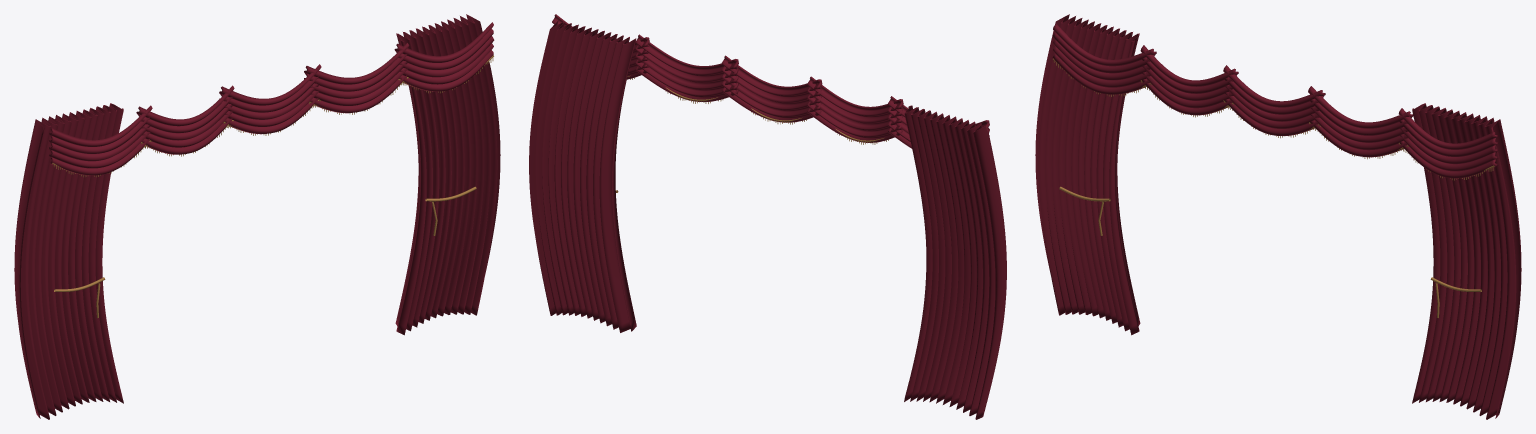
Rendered from velvet-curtain.glb.
The picture shows the model from 3 angles, left to right: view 1: azimuth 30°, elevation 25°; view 2: azimuth 150°, elevation 25°; view 3: azimuth 330°, elevation 25°; orthographic projection.
Visible parts, largest first — view 1: CurtainLeft, CurtainRight, Valance0, Valance3, Valance4, Valance2, Valance1, GoldTrim; view 2: CurtainRight, CurtainLeft, Valance3, Valance2, Valance1, Valance0, Valance4, GoldTrim; view 3: CurtainRight, CurtainLeft, Valance0, Valance4, Valance3, Valance2, Valance1, GoldTrim.
Boxes of the visible parts, x1,y1,x2,y2 form: CurtainLeft: [14, 103, 123, 419]; CurtainRight: [395, 14, 500, 335]; Valance0: [48, 105, 152, 175]; Valance3: [304, 43, 409, 113]; Valance4: [394, 22, 494, 91]; Valance2: [219, 64, 321, 134]; Valance1: [136, 85, 234, 154]; GoldTrim: [52, 55, 493, 317]; CurtainRight: [529, 20, 636, 332]; CurtainLeft: [904, 105, 1006, 419]; Valance3: [635, 34, 738, 101]; Valance2: [721, 55, 822, 122]; Valance1: [807, 76, 903, 142]; Valance0: [887, 96, 989, 148]; Valance4: [552, 14, 649, 79]; GoldTrim: [615, 75, 888, 192]; CurtainRight: [1412, 103, 1521, 419]; CurtainLeft: [1035, 14, 1140, 335]; Valance0: [1052, 23, 1156, 94]; Valance4: [1398, 108, 1498, 178]; Valance3: [1308, 86, 1413, 157]; Valance2: [1223, 65, 1325, 135]; Valance1: [1140, 45, 1238, 115]; GoldTrim: [1053, 58, 1494, 317].
Size of the model in its own units: 16.4 by 9.66 by 1.2.
